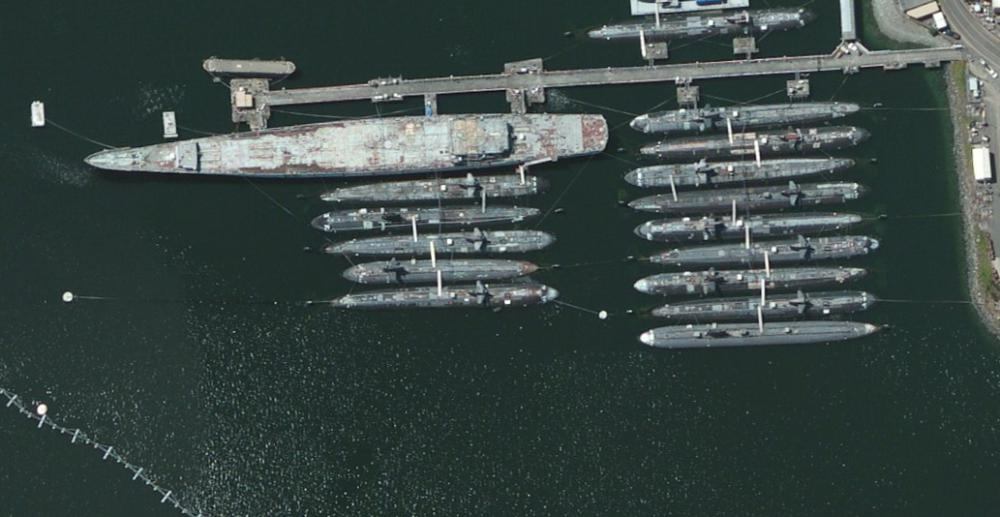submarine: (317, 168, 548, 205), (613, 182, 876, 214), (317, 252, 550, 287), (614, 155, 862, 186), (633, 94, 863, 127), (627, 261, 876, 291), (638, 319, 884, 348), (307, 204, 549, 231), (633, 132, 881, 157), (639, 293, 883, 318), (640, 236, 883, 260), (317, 288, 569, 311), (309, 232, 564, 253), (629, 212, 868, 234), (589, 13, 809, 36)
